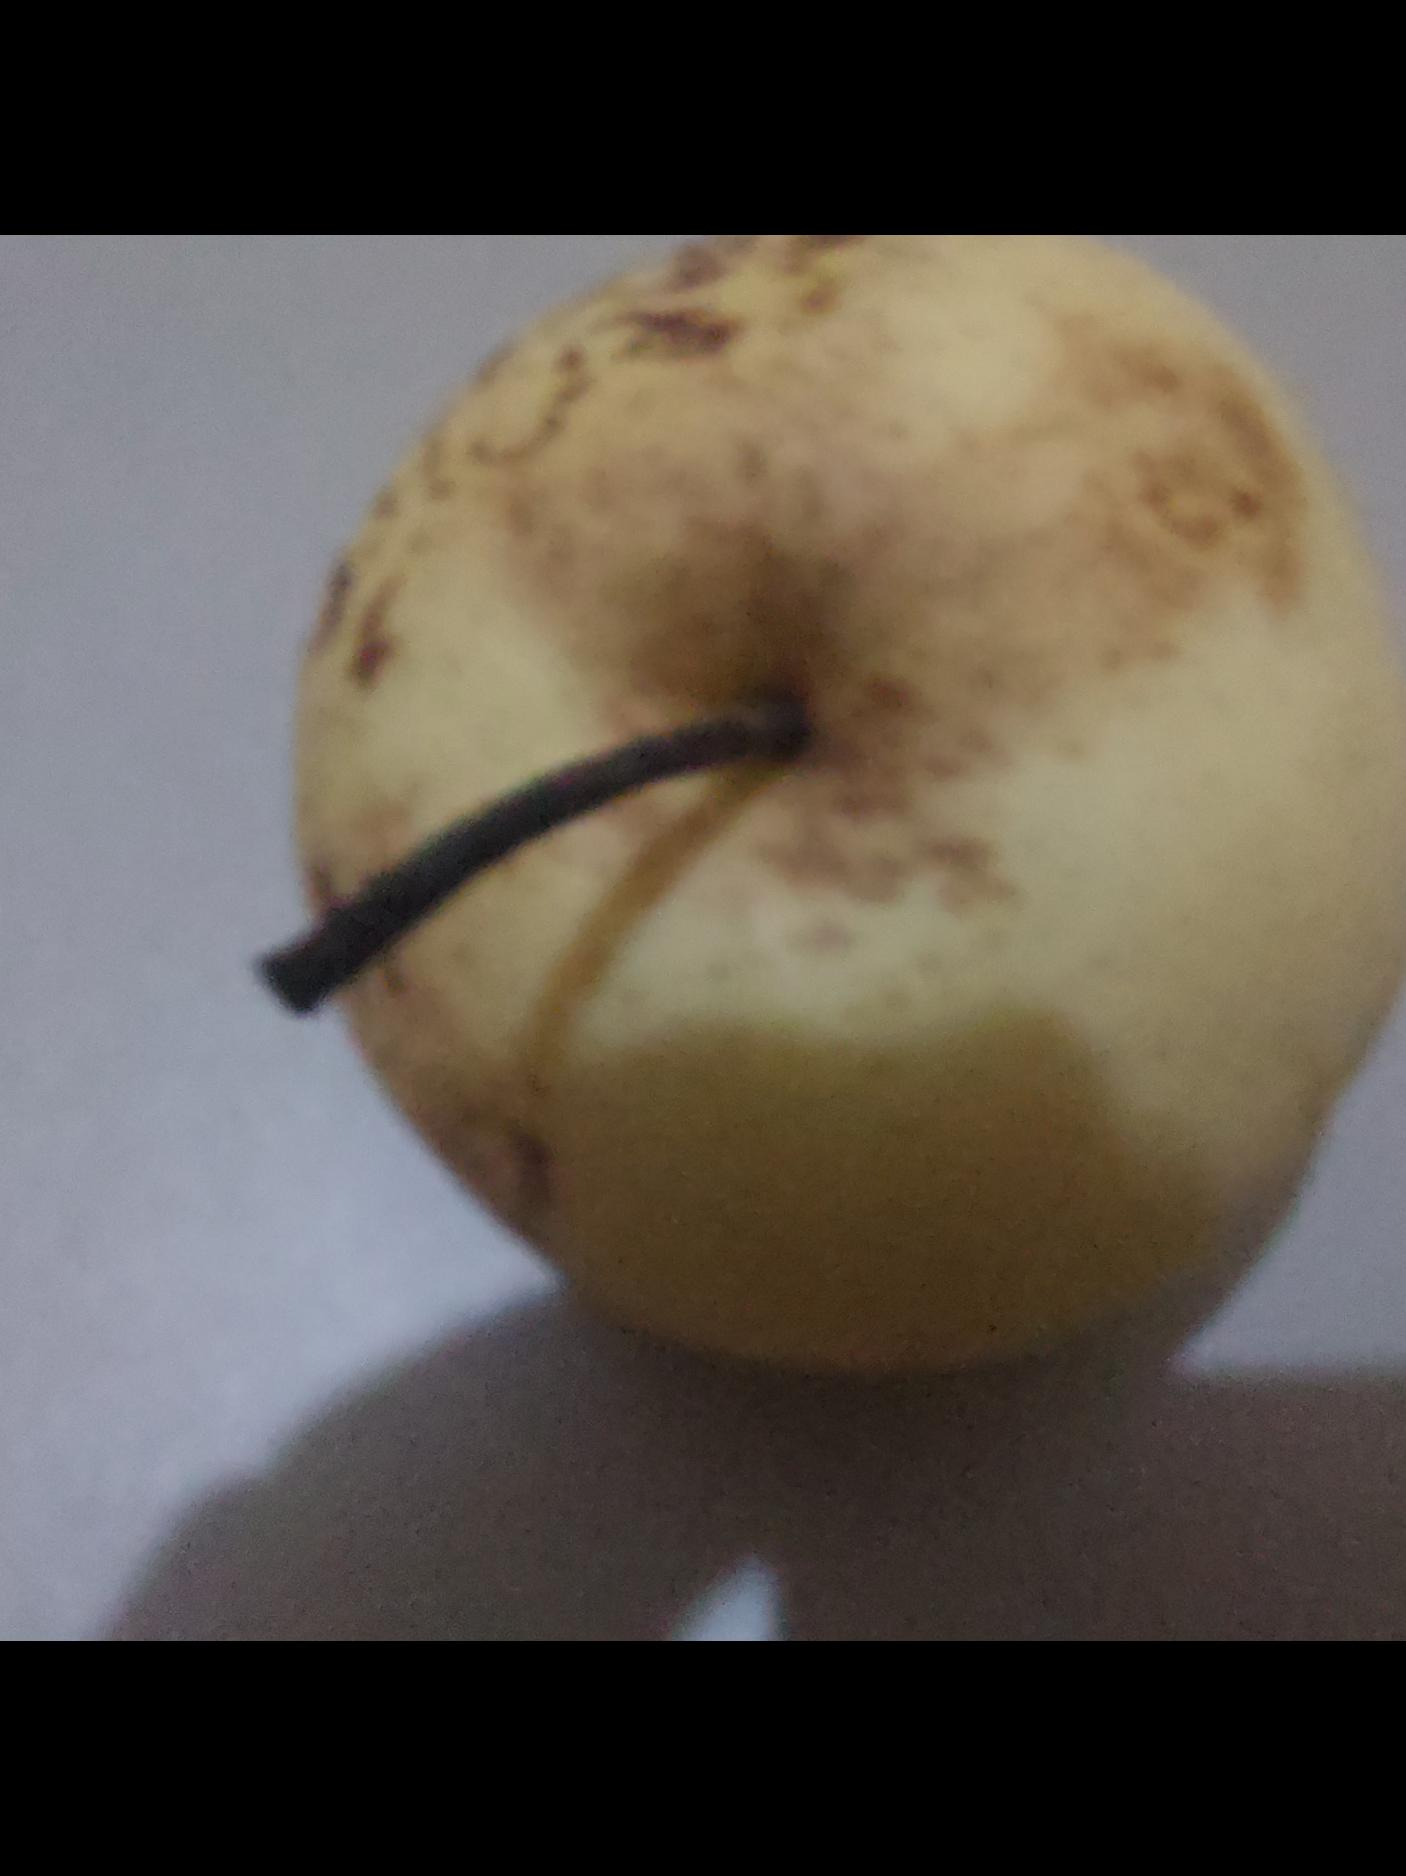Bad Pear: (312, 235, 1406, 1399)
